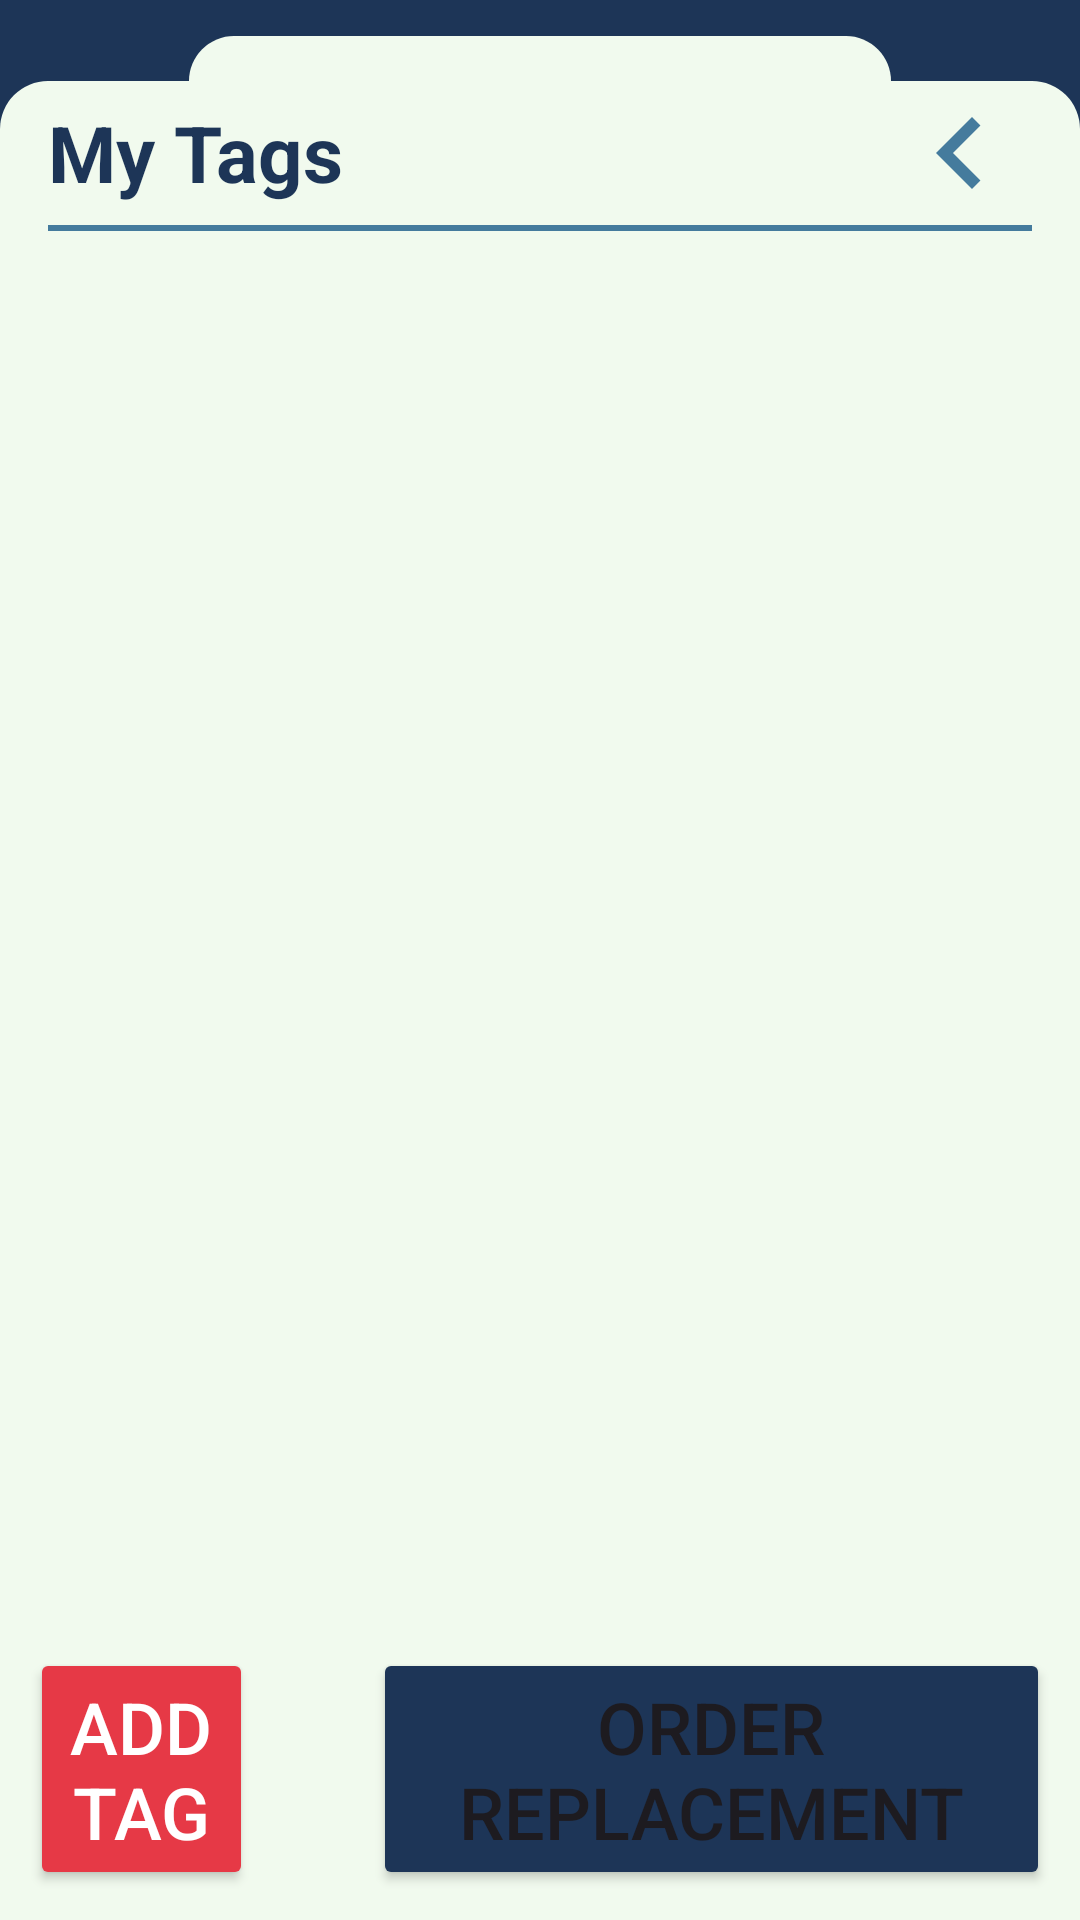

Locate icon controls on the screen. Image size 1080×1920, boxes as [x1=x1, y1=y1, x2=x2, y2=y2].
Chevron Left: [x1=936, y1=117, x2=981, y2=189]
